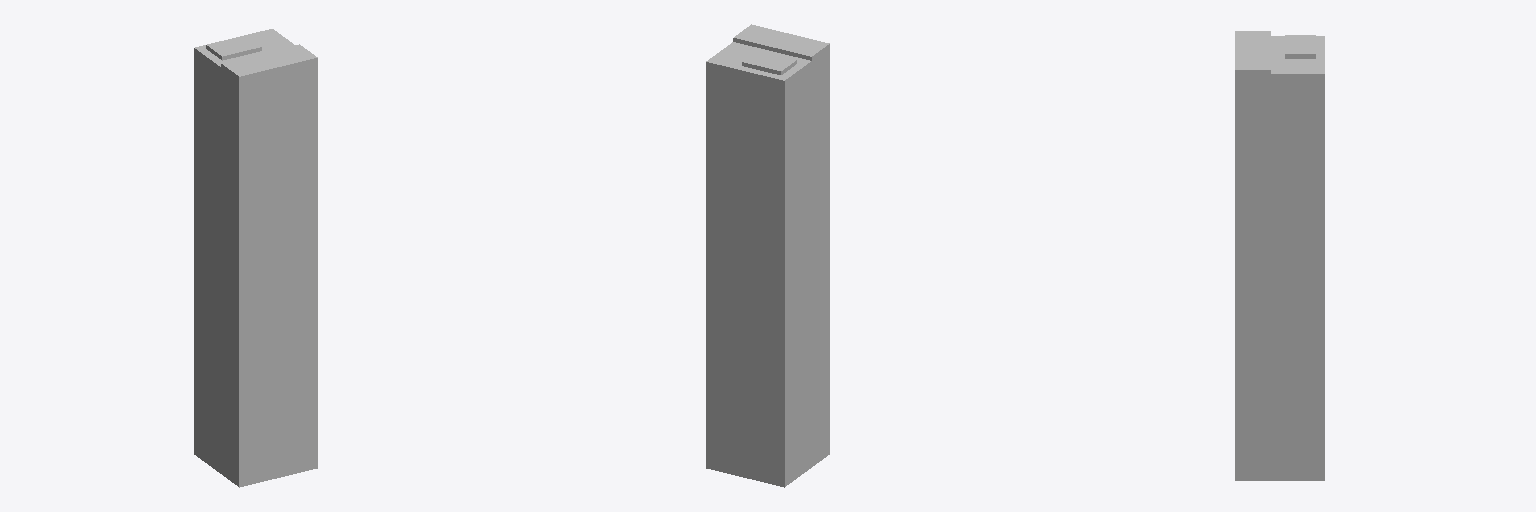
The model's file is Tall Building Model 2.obj.
The picture shows the model from 3 angles: view 1: azimuth 30°, elevation 25°; view 2: azimuth 150°, elevation 25°; view 3: azimuth 270°, elevation 25°; orthographic projection.
Size of the model in its own units: 20 by 100 by 20.